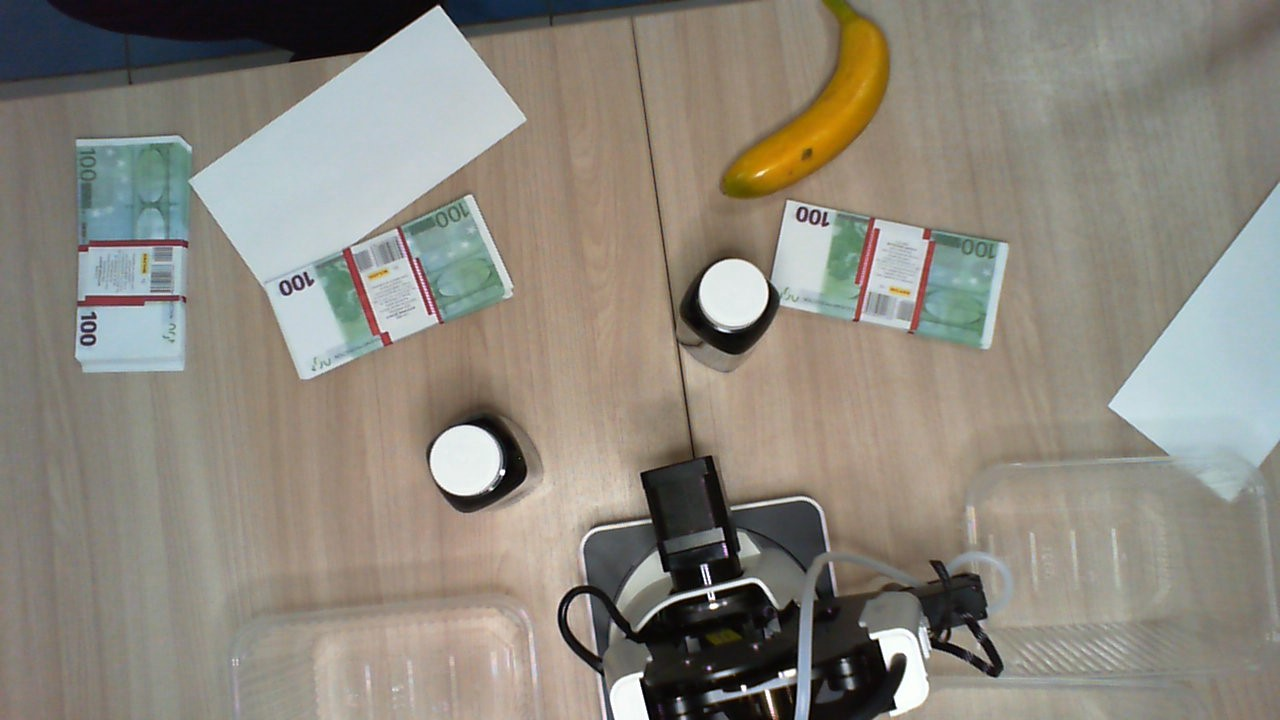banana: (718, 1, 889, 204)
bottle: (428, 412, 518, 515), (685, 257, 777, 348)
convert: (188, 4, 522, 292), (1107, 182, 1280, 500)
money: (263, 192, 517, 378), (768, 196, 1011, 350), (73, 130, 193, 377)
